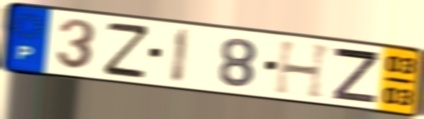3: (53, 17, 98, 72)
8: (219, 36, 259, 89)
H: (273, 39, 336, 101)
I: (168, 26, 193, 86)
Z: (331, 45, 382, 106), (102, 21, 151, 80)
